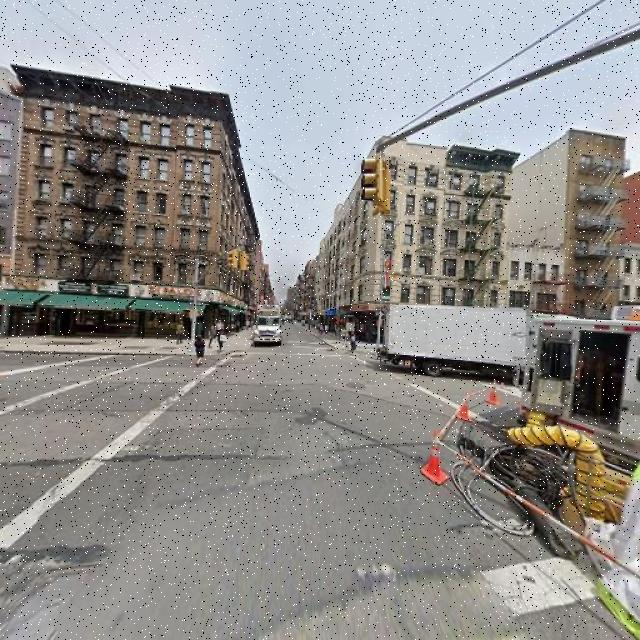Building: (25, 77, 254, 343), (320, 150, 512, 348)
